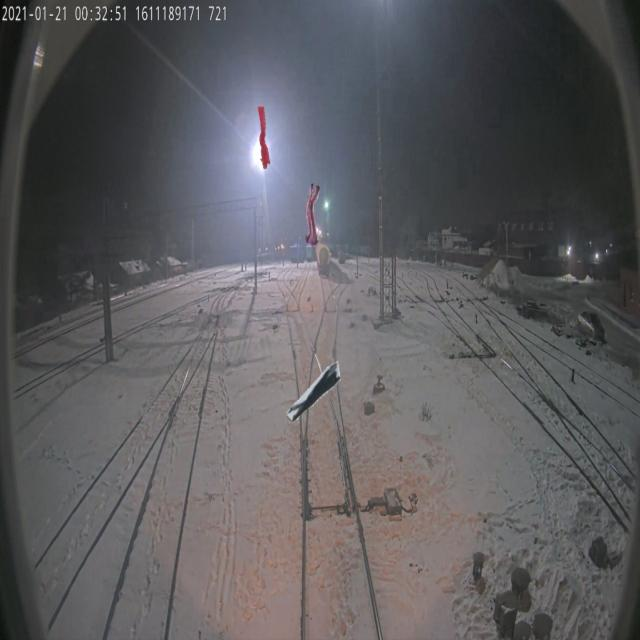floating object: (286, 358, 344, 422), (305, 182, 320, 246), (257, 105, 270, 169)
